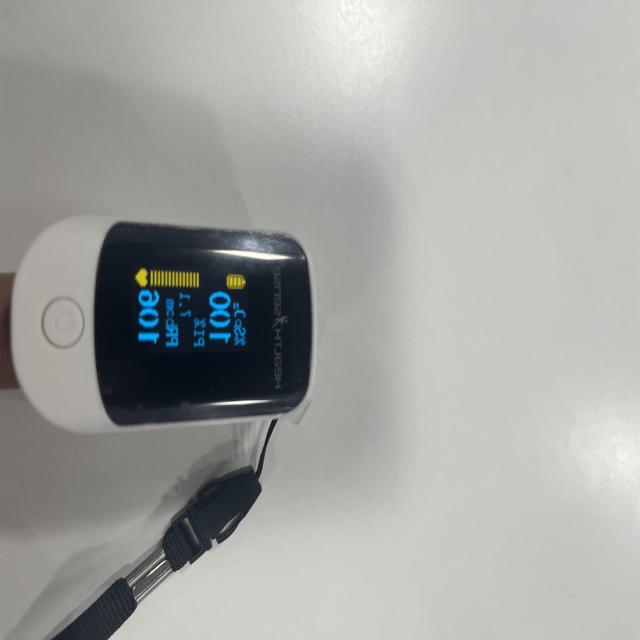spo2: (0, 216, 315, 640)
